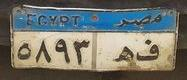3: (72, 39, 91, 66)
5: (14, 41, 33, 64)
8: (34, 38, 51, 66)
9: (53, 37, 70, 66)
faa: (136, 38, 164, 66)
haa: (111, 46, 135, 65)
